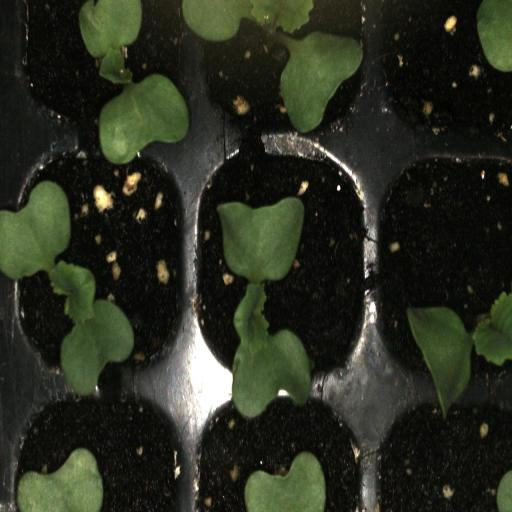Folha: (407, 293, 512, 409), (15, 448, 104, 512)
Germinacao: (6, 134, 189, 393), (191, 133, 371, 392), (374, 138, 512, 385), (191, 0, 373, 135), (12, 0, 188, 135)
